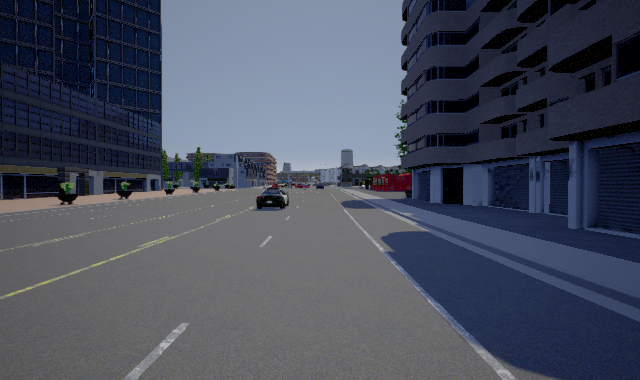vehicle: (256, 185, 289, 209)
